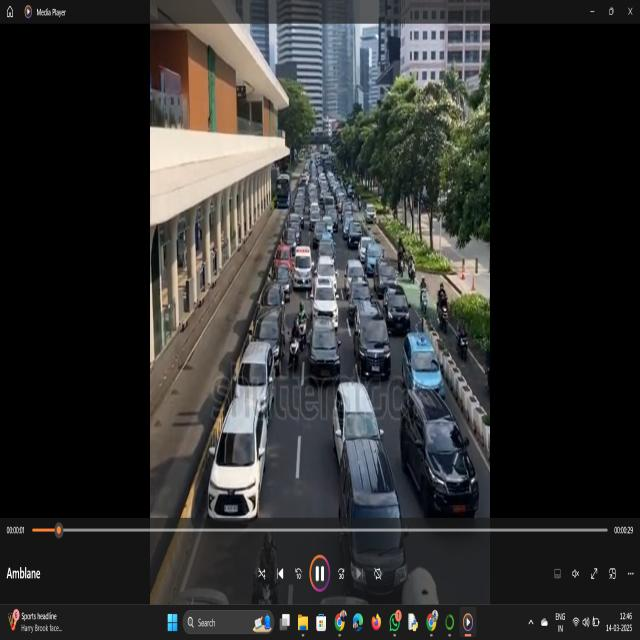Ambulance: (290, 240, 317, 292)
